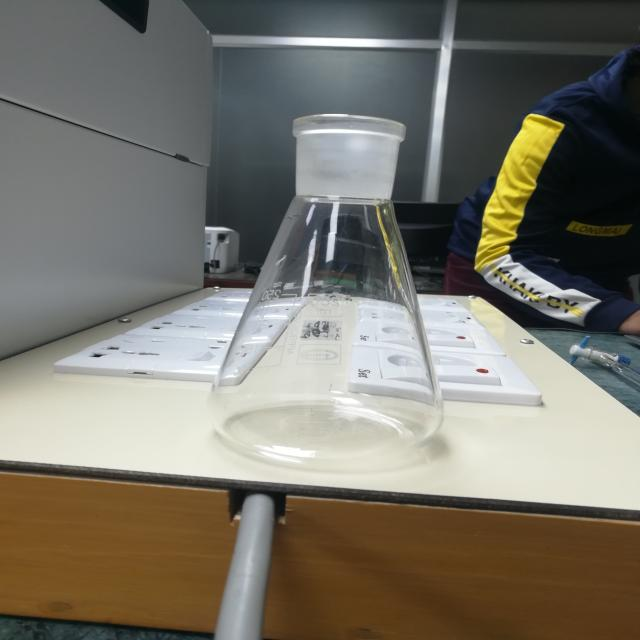Conical_Flask: (196, 61, 494, 482)
